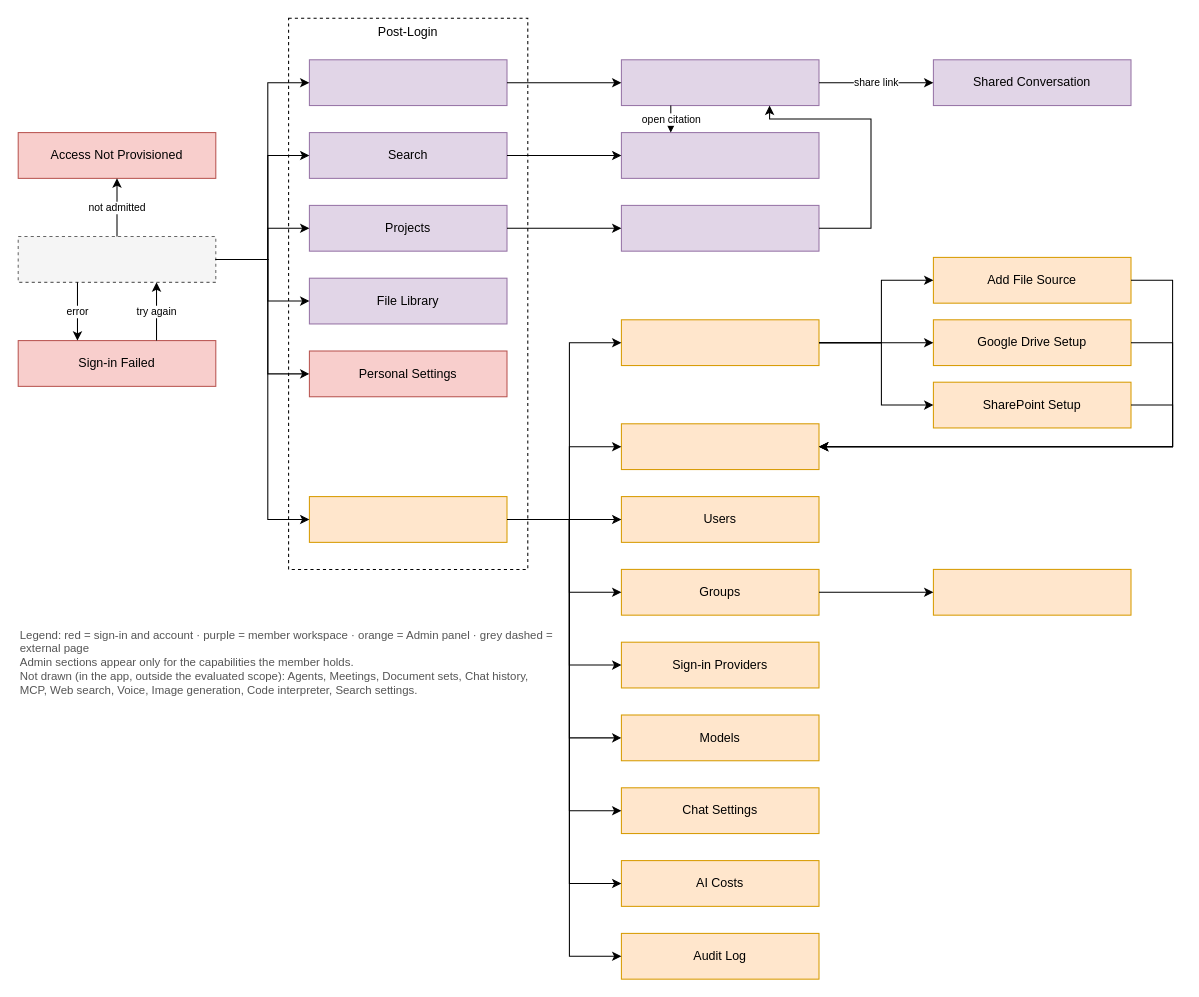
The diagram is 1199 pixels wide and 997 high, and some of its shapes have lost their labels. Here are the shapes that lost their labels. From the top down, the centre of each, then its label:
(407,82): Chat Home
(719,82): Conversation
(719,155): Document Preview
(719,227): Project Workspace
(116,259): Keycloak Sign-in (external page)
(719,342): Add Source
(719,446): Source Detail
(407,519): Admin Panel · Sources
(1031,591): Group Detail
